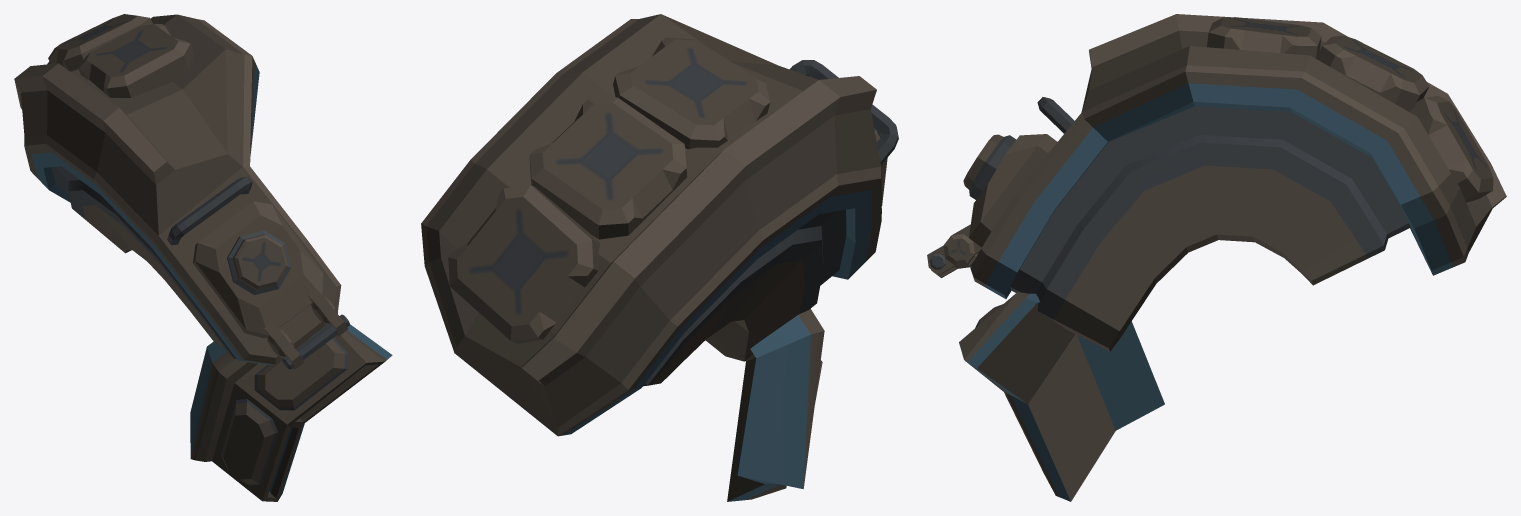
File: SM_Mech_Chest_01_Armor_Collar_06.fbx
3 renders of one model, left to right at view 1: azimuth 30°, elevation 25°; view 2: azimuth 150°, elevation 25°; view 3: azimuth 270°, elevation 25°, orthographic. The views are drawn at different scales.
Parts seen in each view (by area): view 1: SM_Mech_Chest_01_Armor_Collar_06; view 2: SM_Mech_Chest_01_Armor_Collar_06; view 3: SM_Mech_Chest_01_Armor_Collar_06.
Boxes of the visible parts, x1,y1,x2,y2 form: SM_Mech_Chest_01_Armor_Collar_06: (14,14,392,501); SM_Mech_Chest_01_Armor_Collar_06: (421,14,898,501); SM_Mech_Chest_01_Armor_Collar_06: (927,14,1506,501).
Bounding box in the file's own units: 67.32 × 126 × 145.
